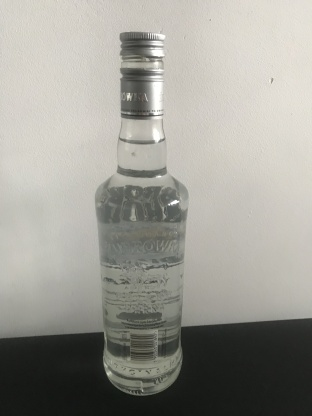nakretka: (118, 29, 166, 120)
